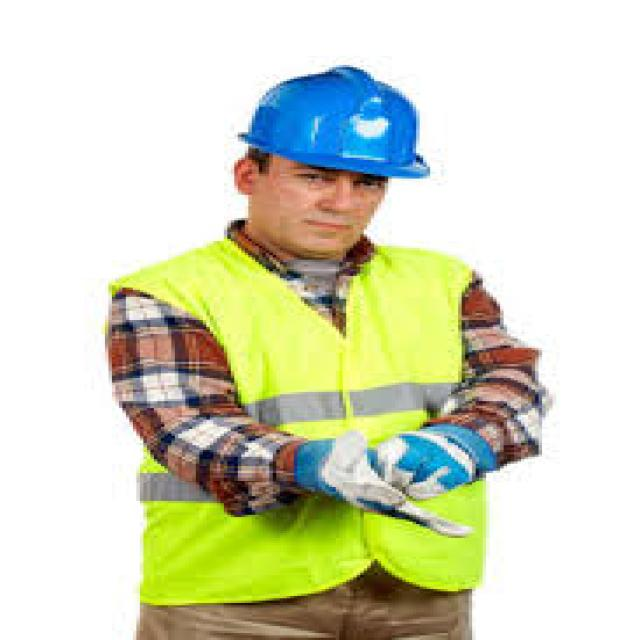gloved: (290, 429, 472, 538)
